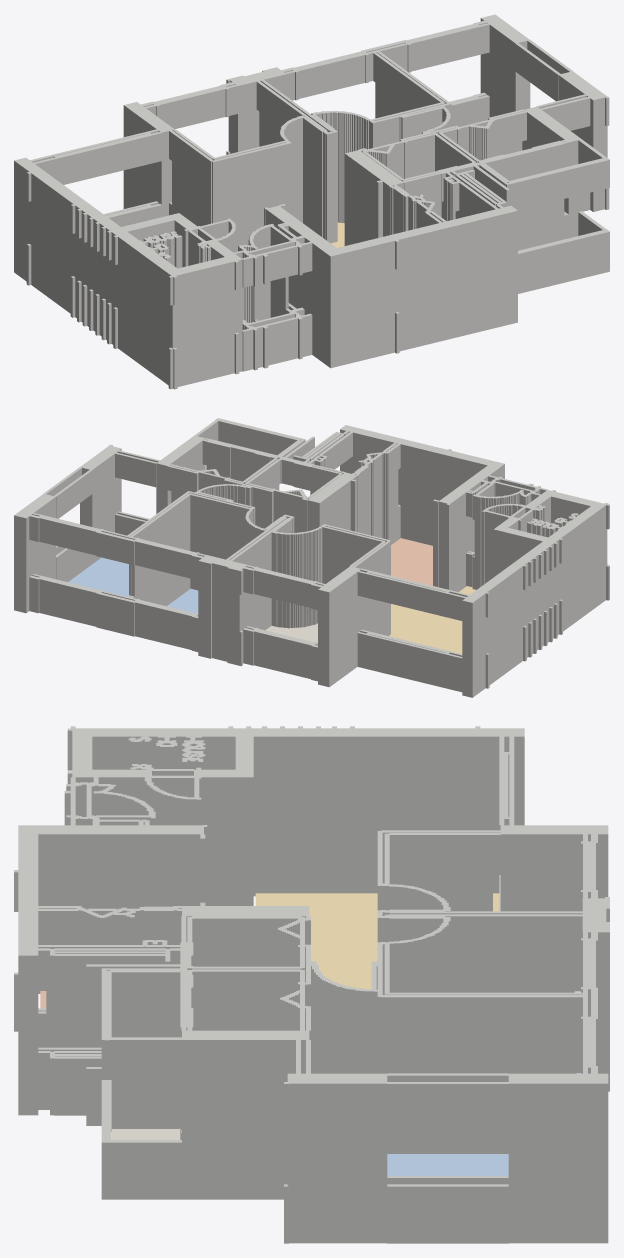
3 views of the same model, one above another, from view 1: azimuth 30°, elevation 25°; view 2: azimuth 150°, elevation 25°; view 3: azimuth 270°, elevation 25° (orthographic). The views are drawn at different scales.
Visible parts, largest first — view 1: walls; view 2: walls, room:living:2, room:kitchen:5, room:bedroom:0, room:other:6, room:bedroom:1; view 3: walls, room:living:2, room:bedroom:0, room:other:10.
Boxes of the visible parts, box(x1,y1,x2,y2) form: walls: box(14, 14, 609, 389); walls: box(14, 418, 609, 697); room:living:2: box(389, 586, 475, 653); room:kitchen:5: box(391, 538, 432, 585); room:bedroom:0: box(68, 557, 128, 596); room:other:6: box(265, 623, 317, 642); room:bedroom:1: box(167, 588, 198, 613); walls: box(14, 726, 609, 1243); room:living:2: box(255, 893, 499, 989); room:bedroom:0: box(387, 1154, 508, 1175); room:other:10: box(112, 1128, 180, 1139).
Bounding box in the file's own units: 13.46 × 2.8 × 9.48.
